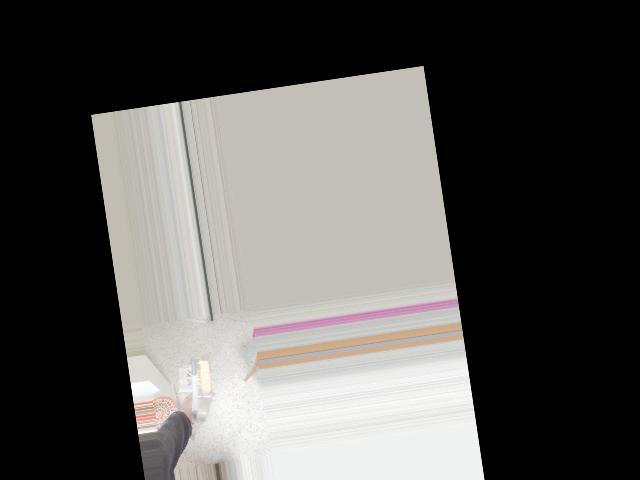cheese: (150, 353, 232, 415)
